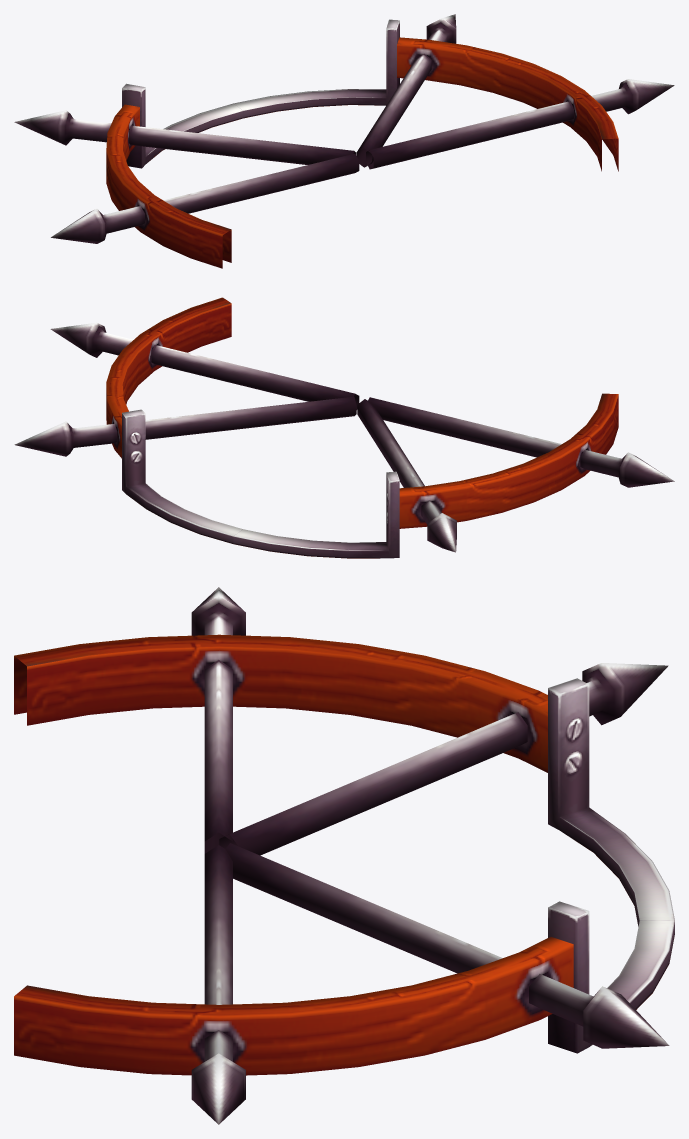
File: wuqi_0002.FBX
3 views of the same model, one above another, from view 1: azimuth 30°, elevation 25°; view 2: azimuth 150°, elevation 25°; view 3: azimuth 270°, elevation 25° (orthographic). The views are drawn at different scales.
Parts seen in each view (by area): view 1: wuqi_0002; view 2: wuqi_0002; view 3: wuqi_0002.
Part boxes in pixels (bbox=[...]): wuqi_0002: bbox=[14, 14, 674, 268]; wuqi_0002: bbox=[14, 297, 674, 558]; wuqi_0002: bbox=[14, 587, 674, 1124].
Bounding box in the file's own units: 64.95 × 33.73 × 7.67.
Materials: 1 (1 with a texture image).
